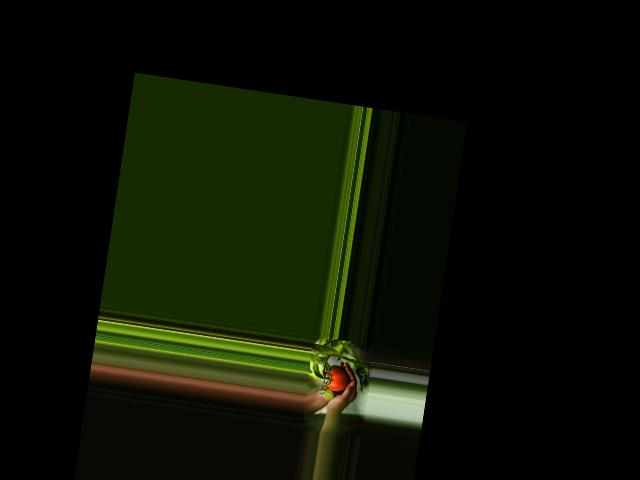tomato: (324, 367, 350, 393)
